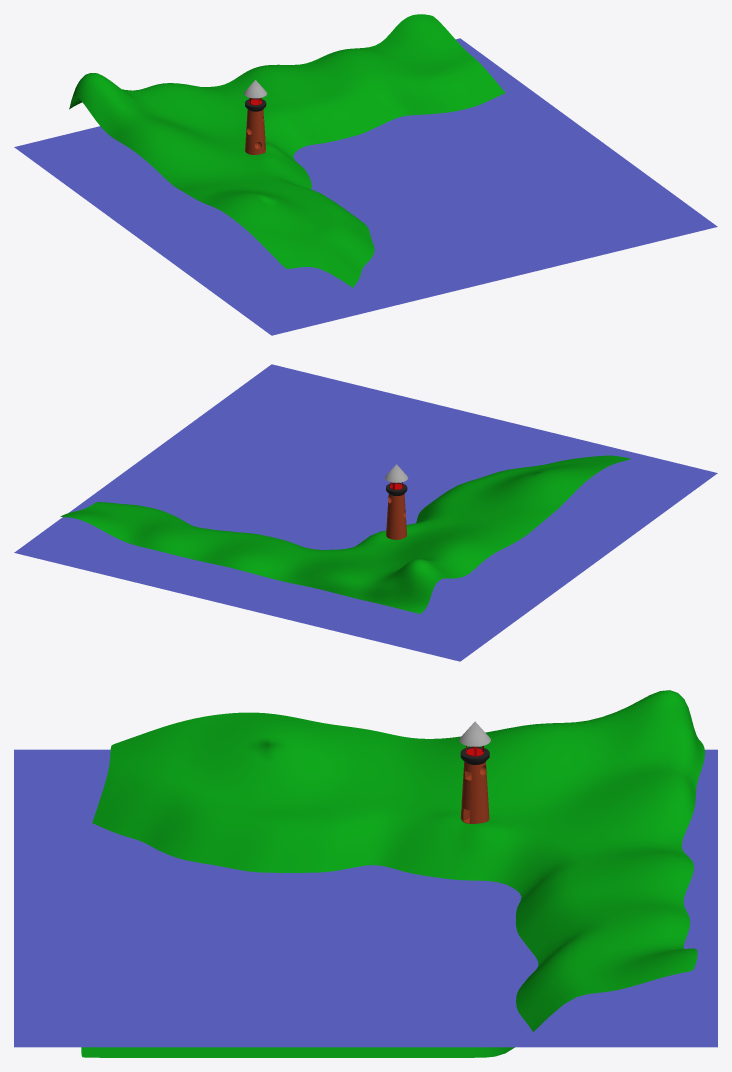
File: krajobraz.obj
3 views of the same model, one above another, from view 1: azimuth 30°, elevation 25°; view 2: azimuth 150°, elevation 25°; view 3: azimuth 270°, elevation 25° (orthographic). The views are drawn at different scales.
Visible parts, largest first — view 1: Sea_Plane.001, Terrain_Plane, Lighthouse_Circle.001; view 2: Sea_Plane.001, Terrain_Plane, Lighthouse_Circle.001; view 3: Sea_Plane.001, Terrain_Plane, Lighthouse_Circle.001.
Part boxes in pixels (x1,y1,x2,y2): Sea_Plane.001: (14,38,717,335); Terrain_Plane: (69,14,505,287); Lighthouse_Circle.001: (244,80,267,154); Sea_Plane.001: (14,364,717,661); Terrain_Plane: (60,455,630,613); Lighthouse_Circle.001: (385,464,408,539); Sea_Plane.001: (14,749,717,1047); Terrain_Plane: (81,690,704,1057); Lighthouse_Circle.001: (459,721,490,823).
Bounding box in the file's own units: 24.44 × 5.78 × 24.44.
